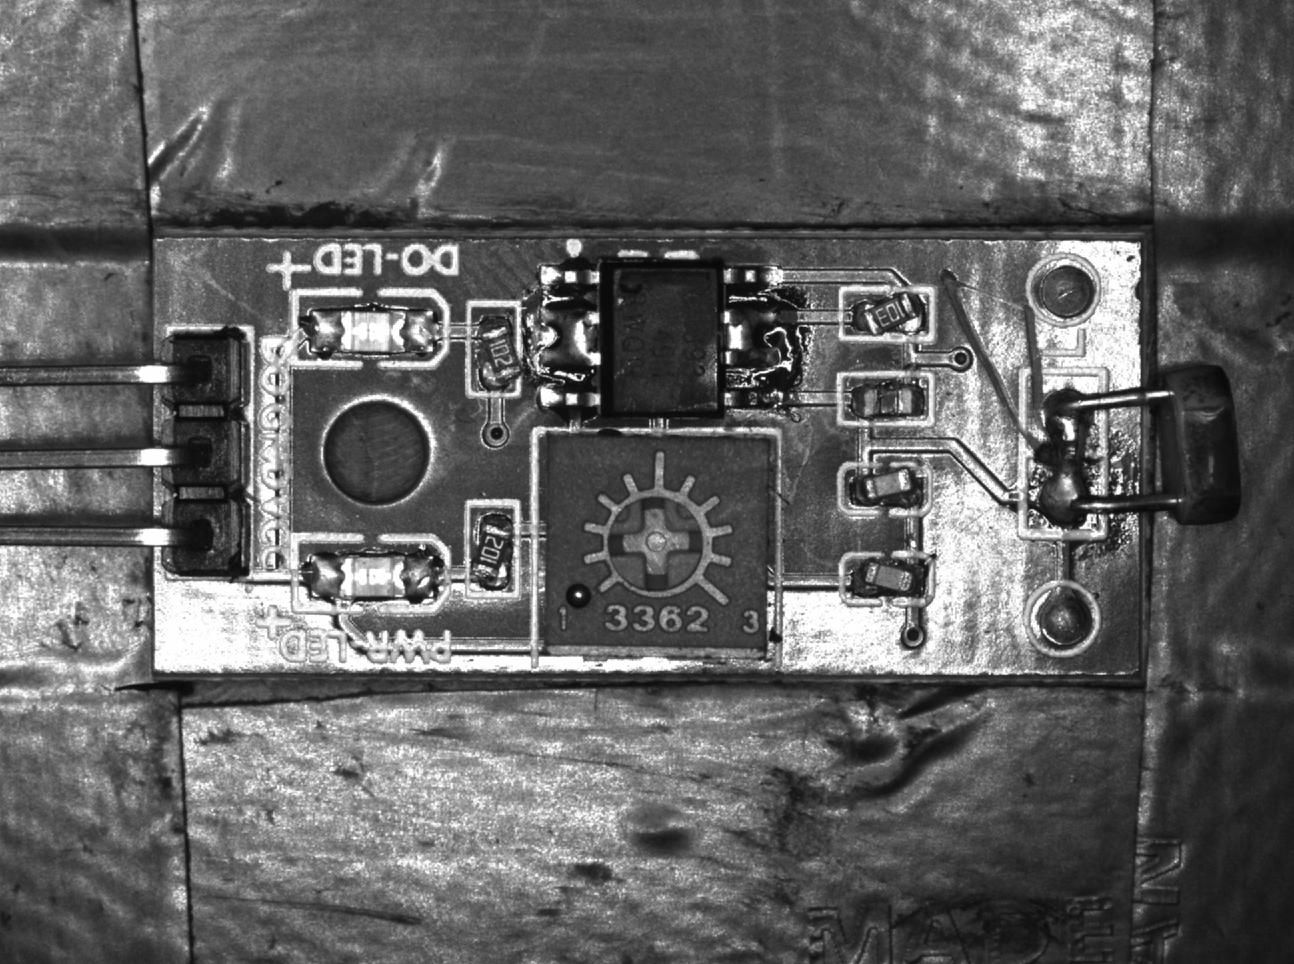bridge: (1027, 372, 1105, 543), (723, 298, 785, 377), (541, 299, 599, 378)
lifted: (469, 500, 521, 602), (841, 285, 933, 343), (843, 554, 935, 604), (473, 304, 520, 396), (843, 464, 926, 516)
miss: (838, 373, 931, 425)
